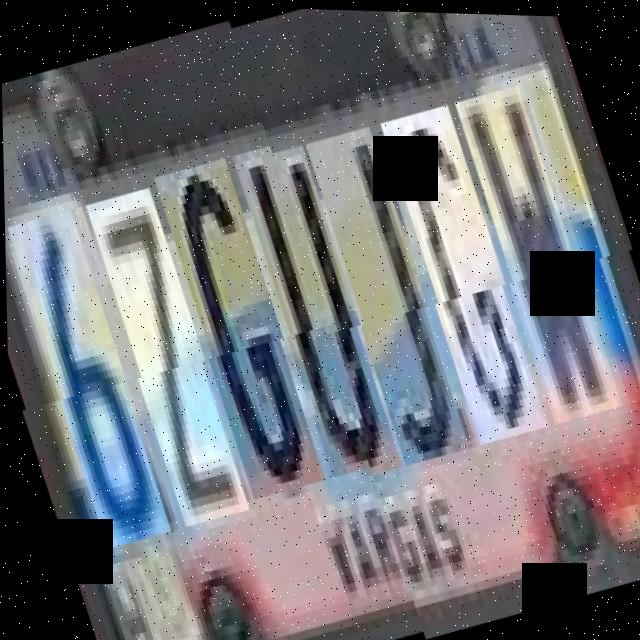6: (8, 215, 175, 556)
G: (155, 163, 330, 506), (379, 100, 549, 442)
J: (304, 123, 471, 463)
U: (233, 142, 405, 484)
W: (454, 80, 621, 421)
Z: (87, 193, 253, 534)
